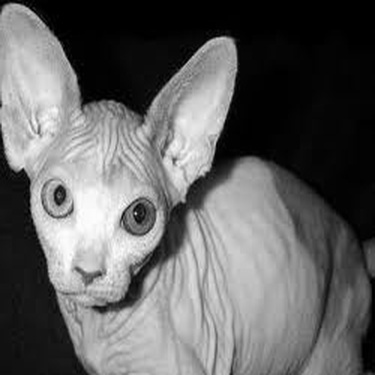cat: (1, 17, 366, 369)
